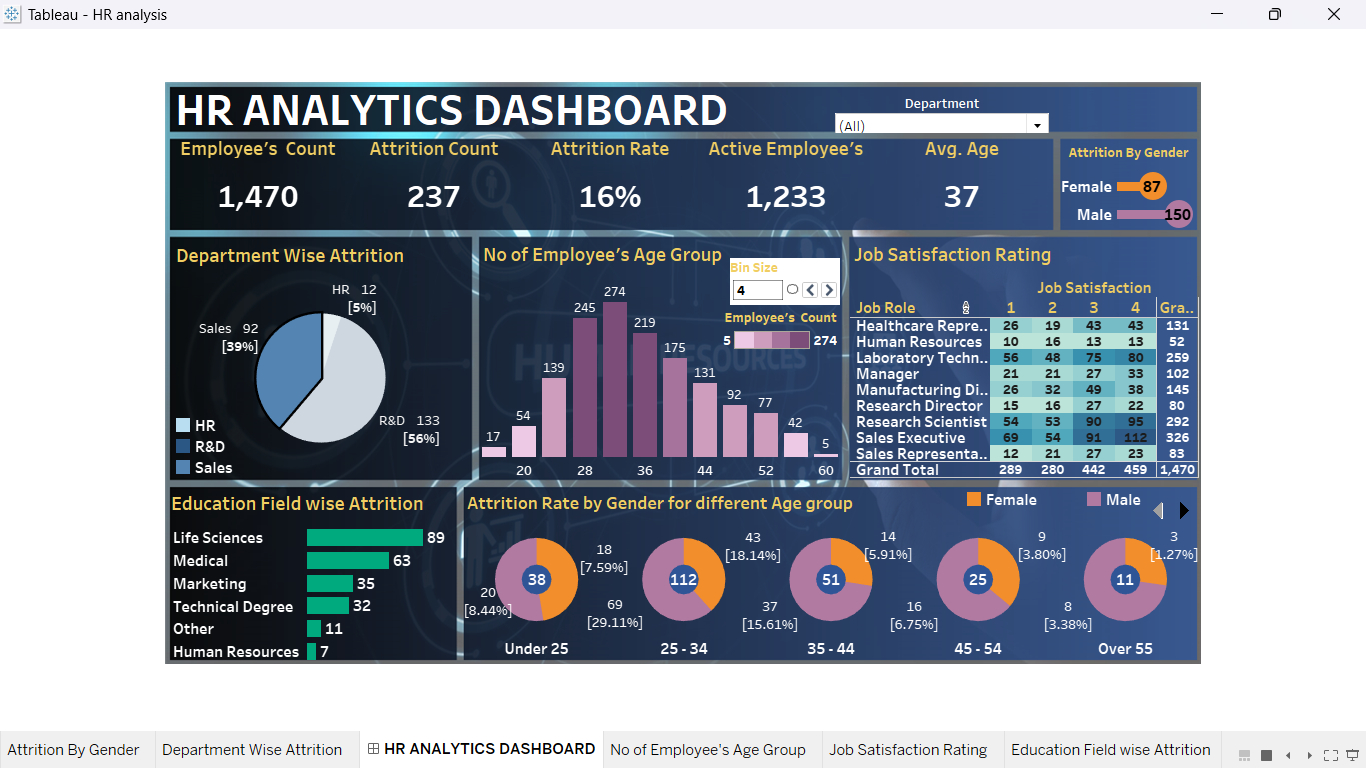

What the dashboard file says about the page in this screenshot:
{"tool":"tableau","page":{"name":"HR ANALYTICS DASHBOARD","canvas":[1060,620],"ordinal":0},"visuals":[{"type":"image","param":"C:/Users/dell/Downloads/Bg.png","box":[8,8,1044,604]},{"type":"text","box":[19,19,603,37]},{"type":"filter","title":"Department Wise Attrition","param":"[federated.14kxz7w0wrhy7w1c9h4ya1rmgmly].[none:Department:nk]","box":[679,24,220,39]},{"type":"worksheet","title":"KPI","mark":"Automatic","box":[17,68,880,93]},{"type":"worksheet","title":"Attrition By Gender","mark":"Automatic","rows":["Gender"],"cols":["Calculation_1292533123880226816","Calculation_1292533123880226816"],"box":[908,69,138,92]},{"type":"worksheet","title":"No of Employee's Age Group","mark":"Automatic","rows":["Employee Count"],"cols":["Age (bin)"],"box":[326,167,362,242]},{"type":"worksheet","title":"Job Satisfaction Rating","mark":"Square","rows":["Job Role"],"cols":["Job Satisfaction"],"box":[697,167,349,241]},{"type":"worksheet","title":"Department Wise Attrition","mark":"Pie","box":[19,168,298,241]},{"type":"parameter","param":"[Parameters].[Age Parameter]","box":[577,188,110,47]},{"type":"legend","title":"No of Employee's Age Group","param":"[federated.14kxz7w0wrhy7w1c9h4ya1rmgmly].[sum:Employee Count:qk]","box":[566,238,123,42]},{"type":"legend","title":"Department Wise Attrition","param":"[federated.14kxz7w0wrhy7w1c9h4ya1rmgmly].[none:Department:nk]","box":[20,345,83,64]},{"type":"worksheet","title":"Education Field wise Attrition","mark":"Automatic","rows":["Education Field"],"cols":["Calculation_1292533123880226816"],"box":[14,416,289,177]},{"type":"worksheet","title":"Attrition Rate by Gender for different Age group","mark":"Pie","rows":["Calculation_347903102912126977","Calculation_347903102912126977"],"cols":["CF_age band"],"box":[310,416,736,173]},{"type":"legend","title":"Attrition Rate by Gender for different Age group","param":"[federated.14kxz7w0wrhy7w1c9h4ya1rmgmly].[none:Gender:nk]","box":[811,419,235,43]}]}

Visuals, with their boxes on the page's 1060x620 design canvas (x1, y1, x2, y2). These are canvas units, not pixel positions in the 1366x768 screenshot, which may show the page scaled, cropped or inside an application window:
image: [x1=8, y1=8, x2=1052, y2=612]
text: [x1=19, y1=19, x2=622, y2=56]
"Department Wise Attrition" filter: [x1=679, y1=24, x2=899, y2=63]
"KPI" worksheet: [x1=17, y1=68, x2=897, y2=161]
"Attrition By Gender" worksheet: [x1=908, y1=69, x2=1046, y2=161]
"No of Employee's Age Group" worksheet: [x1=326, y1=167, x2=688, y2=409]
"Job Satisfaction Rating" worksheet (Square marks): [x1=697, y1=167, x2=1046, y2=408]
"Department Wise Attrition" worksheet (Pie marks): [x1=19, y1=168, x2=317, y2=409]
parameter: [x1=577, y1=188, x2=687, y2=235]
"No of Employee's Age Group" legend: [x1=566, y1=238, x2=689, y2=280]
"Department Wise Attrition" legend: [x1=20, y1=345, x2=103, y2=409]
"Education Field wise Attrition" worksheet: [x1=14, y1=416, x2=303, y2=593]
"Attrition Rate by Gender for different Age group" worksheet (Pie marks): [x1=310, y1=416, x2=1046, y2=589]
"Attrition Rate by Gender for different Age group" legend: [x1=811, y1=419, x2=1046, y2=462]
